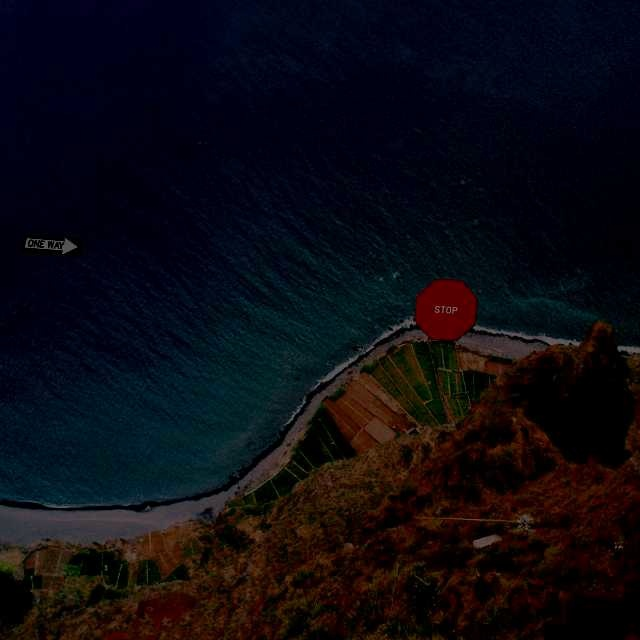ONE_WAY_ right: (19, 233, 83, 257)
STOP: (414, 278, 478, 341)
